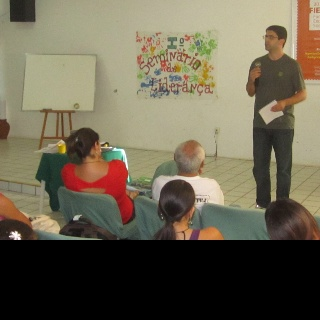without_mask: (262, 24, 287, 49), (264, 30, 285, 51)
